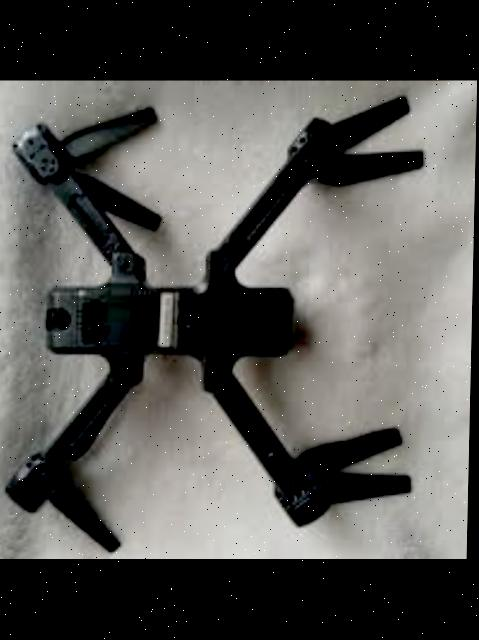drone: (0, 80, 439, 559)
